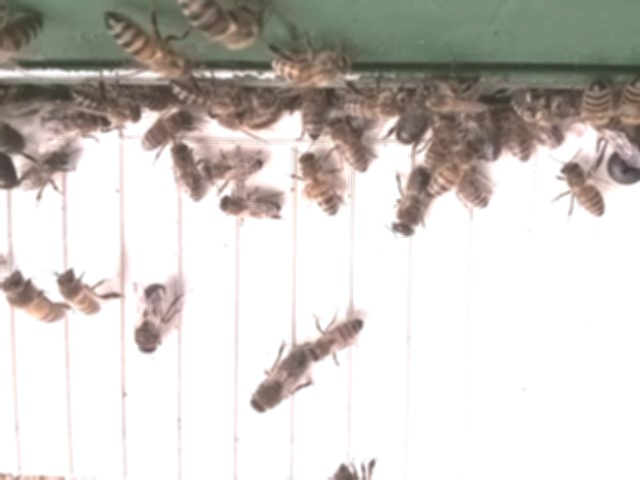Drone: (245, 345, 315, 417), (127, 280, 174, 359), (388, 166, 434, 240)
Worker: (104, 12, 192, 84), (304, 312, 367, 371), (340, 81, 415, 127), (170, 77, 248, 120), (12, 146, 78, 196), (296, 151, 342, 222), (556, 158, 607, 222), (428, 138, 475, 204), (67, 86, 142, 127), (137, 107, 197, 157), (202, 146, 270, 190), (207, 191, 290, 227), (509, 82, 575, 127), (4, 279, 64, 326), (203, 103, 279, 140), (164, 143, 205, 208), (327, 117, 370, 178), (270, 55, 350, 84), (496, 107, 534, 167), (58, 271, 104, 316), (582, 79, 613, 141), (451, 170, 491, 212), (299, 90, 326, 144)
